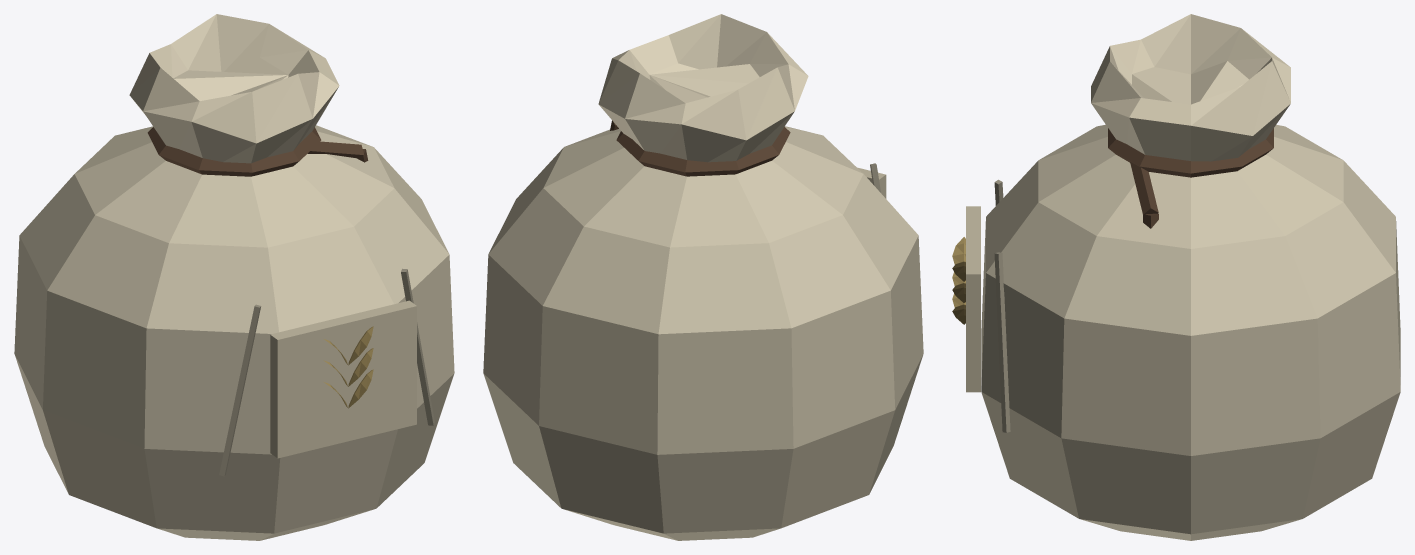
The model's file is flour.glb.
The picture shows the model from 3 angles, left to right: view 1: azimuth 30°, elevation 25°; view 2: azimuth 150°, elevation 25°; view 3: azimuth 270°, elevation 25°; orthographic projection.
Parts seen in each view (by area): view 1: geometry; view 2: geometry; view 3: geometry.
Boxes of the visible parts, x1,y1,x2,y2 form: geometry: (14, 14, 454, 540); geometry: (483, 14, 923, 540); geometry: (952, 14, 1400, 540).
Bounding box in the file's own units: 0.484 × 0.533 × 0.4922.
